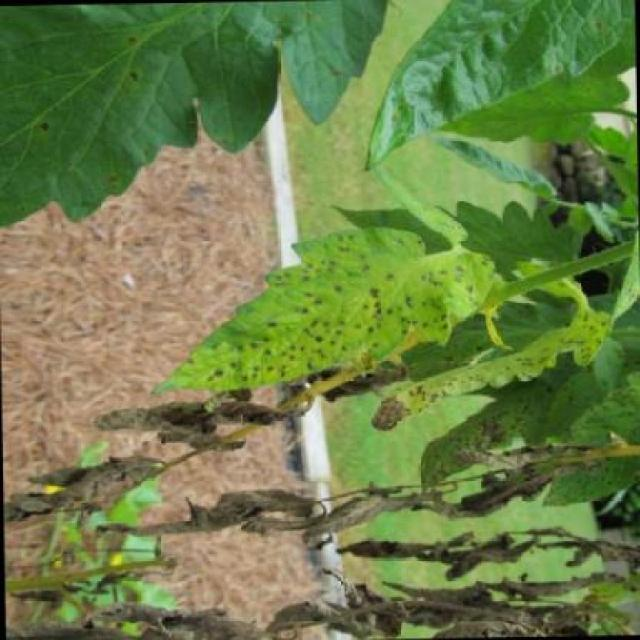Septoria leaf spot: (133, 220, 484, 407)
